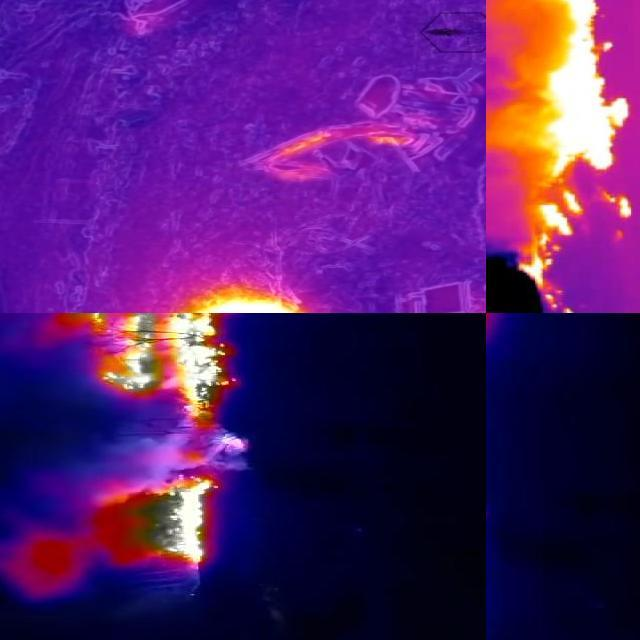fire: (491, 1, 633, 314), (59, 314, 249, 428), (99, 434, 247, 568), (117, 294, 323, 314)
